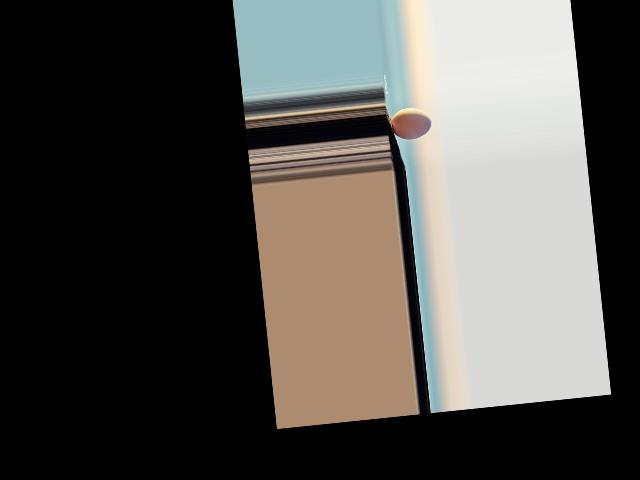egg: (389, 105, 432, 141)
